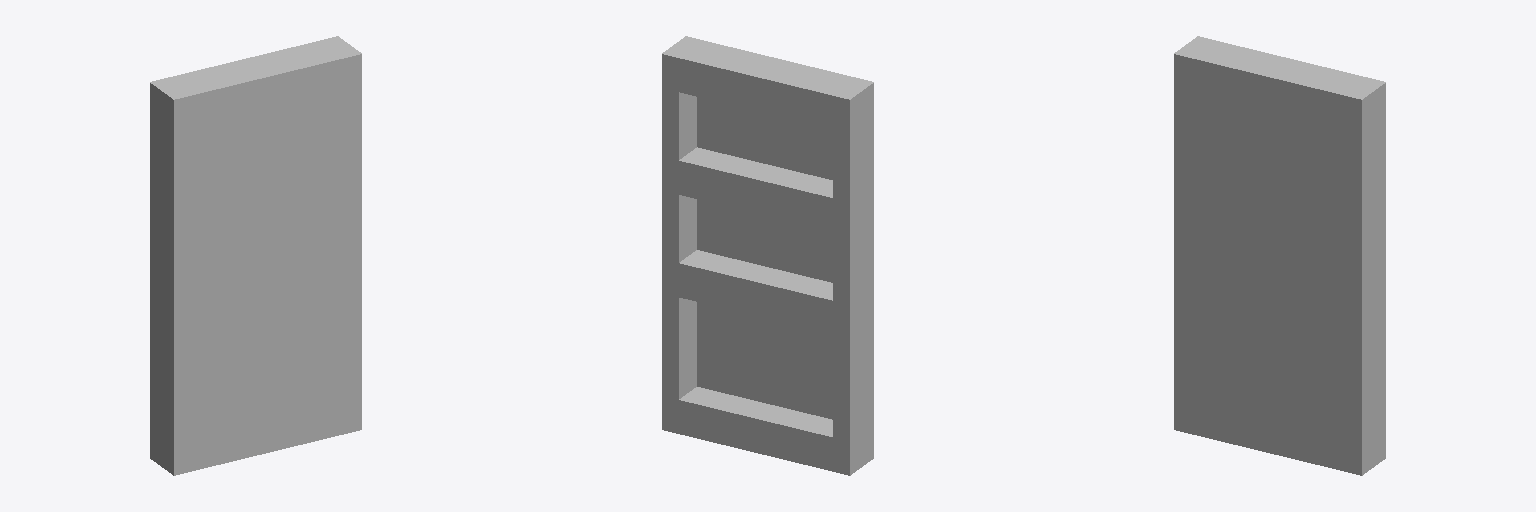
The model's file is bookshellf.obj.
3 renders of one model, left to right at view 1: azimuth 30°, elevation 25°; view 2: azimuth 150°, elevation 25°; view 3: azimuth 330°, elevation 25°, orthographic.
Parts seen in each view (by area): view 1: Cube_Cube.003; view 2: Cube_Cube.003; view 3: Cube_Cube.003.
Boxes of the visible parts, x1=… form: Cube_Cube.003: x1=150, y1=36, x2=361, y2=475; Cube_Cube.003: x1=662, y1=36, x2=873, y2=475; Cube_Cube.003: x1=1174, y1=36, x2=1385, y2=475.
Bounding box in the file's own units: 2.82 × 5.37 × 0.6289.